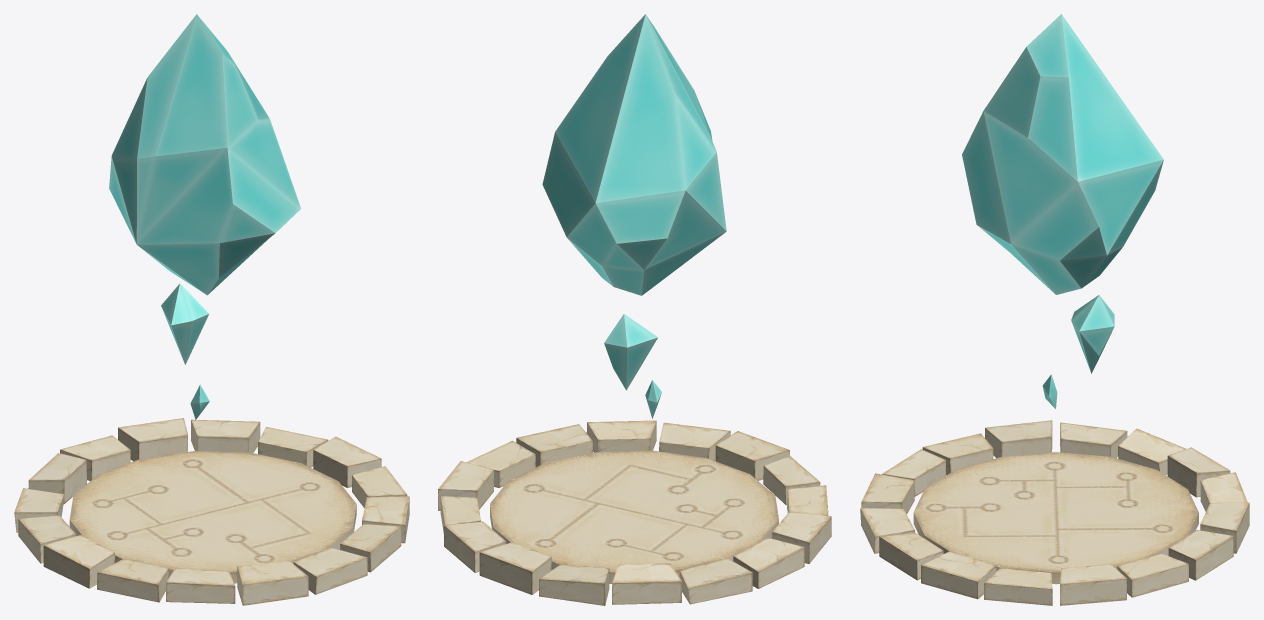
File: crystal.fbx
The picture shows the model from 3 angles, left to right: view 1: azimuth 30°, elevation 25°; view 2: azimuth 150°, elevation 25°; view 3: azimuth 270°, elevation 25°; orthographic projection. The views are drawn at different scales.
Parts seen in each view (by area): view 1: Crystal1; view 2: Crystal1; view 3: Crystal1.
Part boxes in pixels (left/top/right/bottom): Crystal1: left=14, top=14, right=409, bottom=605; Crystal1: left=438, top=14, right=831, bottom=605; Crystal1: left=860, top=14, right=1249, bottom=605.
Size of the model in its own units: 5.8 by 8.27 by 5.8.
